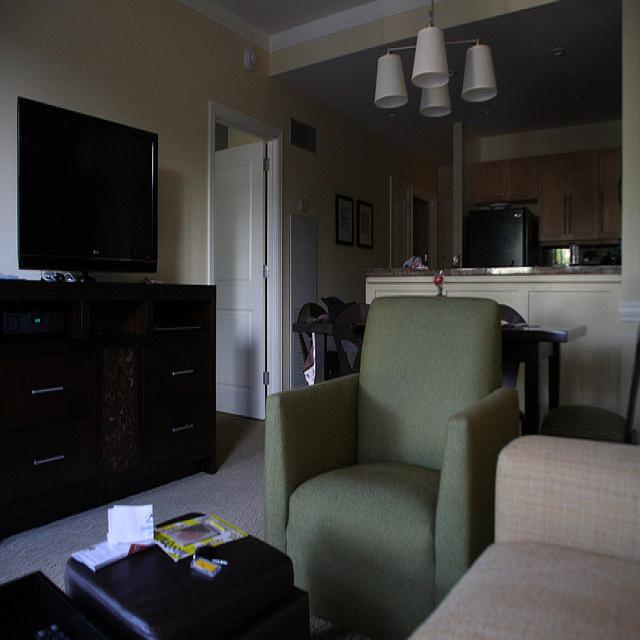chair: (264, 298, 521, 635), (541, 328, 640, 446), (498, 304, 569, 438), (331, 303, 371, 376)
dining table: (67, 507, 308, 640)
